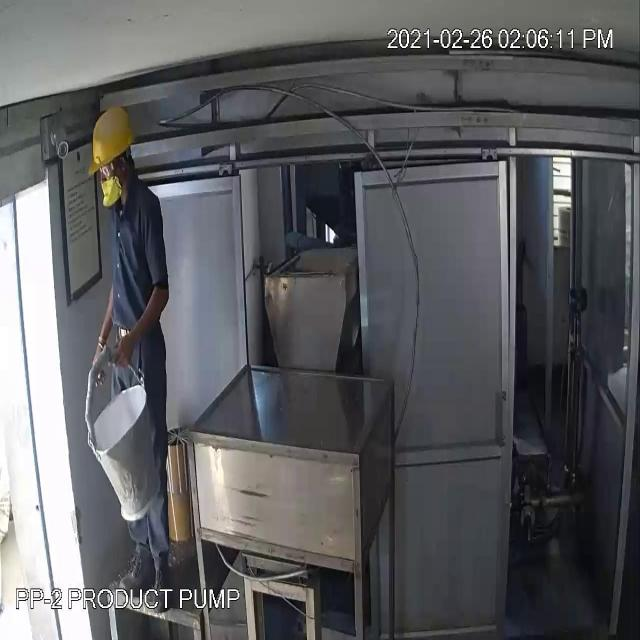helmet: (80, 103, 136, 181)
